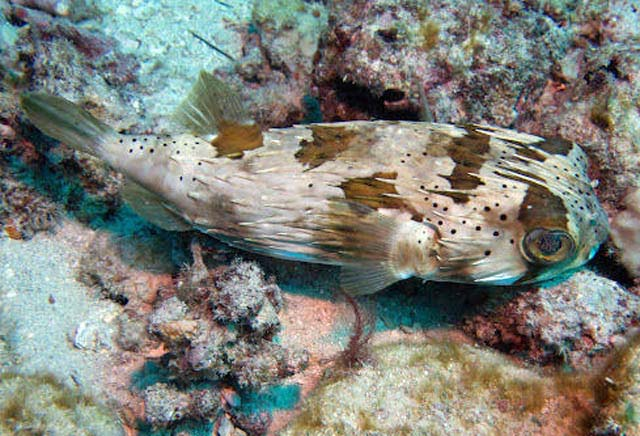Diodon_holocanthus: (25, 73, 623, 300)
